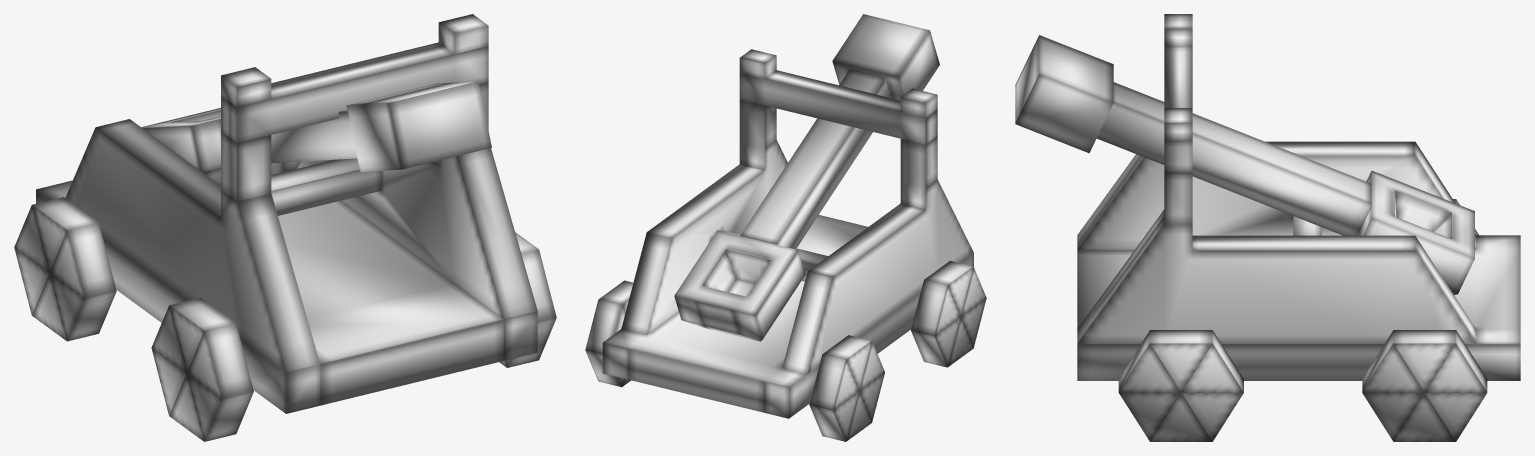
File: Catapult-01.fbx
3 views of the same model, side by side, from view 1: azimuth 30°, elevation 25°; view 2: azimuth 150°, elevation 25°; view 3: azimuth 270°, elevation 25° (orthographic). The views are drawn at different scales.
Visible parts, largest first — view 1: Catapult-01, Catapult-01-Bucket, Catapult-01-WheelBR, Catapult-01-Wheel-FR, Catapult-01-Wheel-FL; view 2: Catapult-01, Catapult-01-Bucket, Catapult-01-WheelBR, Catapult-01-Wheel-FR, Catapult-01-Wheel-BL; view 3: Catapult-01, Catapult-01-Bucket, Catapult-01-Wheel-FL, Catapult-01-Wheel-BL.
Boxes of the visible parts, left/top/right/bottom form: Catapult-01: left=36, top=14, right=537, bottom=413; Catapult-01-Bucket: left=141, top=81, right=491, bottom=185; Catapult-01-WheelBR: left=14, top=197, right=116, bottom=341; Catapult-01-Wheel-FR: left=151, top=297, right=253, bottom=441; Catapult-01-Wheel-FL: left=499, top=232, right=556, bottom=367; Catapult-01: left=602, top=49, right=973, bottom=418; Catapult-01-Bucket: left=674, top=14, right=939, bottom=341; Catapult-01-WheelBR: left=809, top=335, right=884, bottom=441; Catapult-01-Wheel-FR: left=911, top=261, right=986, bottom=367; Catapult-01-Wheel-BL: left=585, top=280, right=633, bottom=387; Catapult-01: left=1077, top=14, right=1520, bottom=380; Catapult-01-Bucket: left=1015, top=35, right=1474, bottom=295; Catapult-01-Wheel-FL: left=1118, top=330, right=1243, bottom=441; Catapult-01-Wheel-BL: left=1362, top=330, right=1487, bottom=441.
Size of the model in its own units: 0.4428 by 0.4485 by 0.653.
